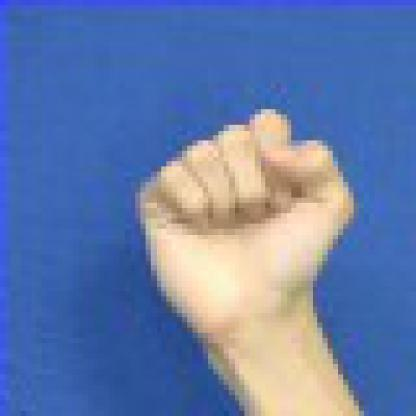zero: (108, 87, 401, 357)
